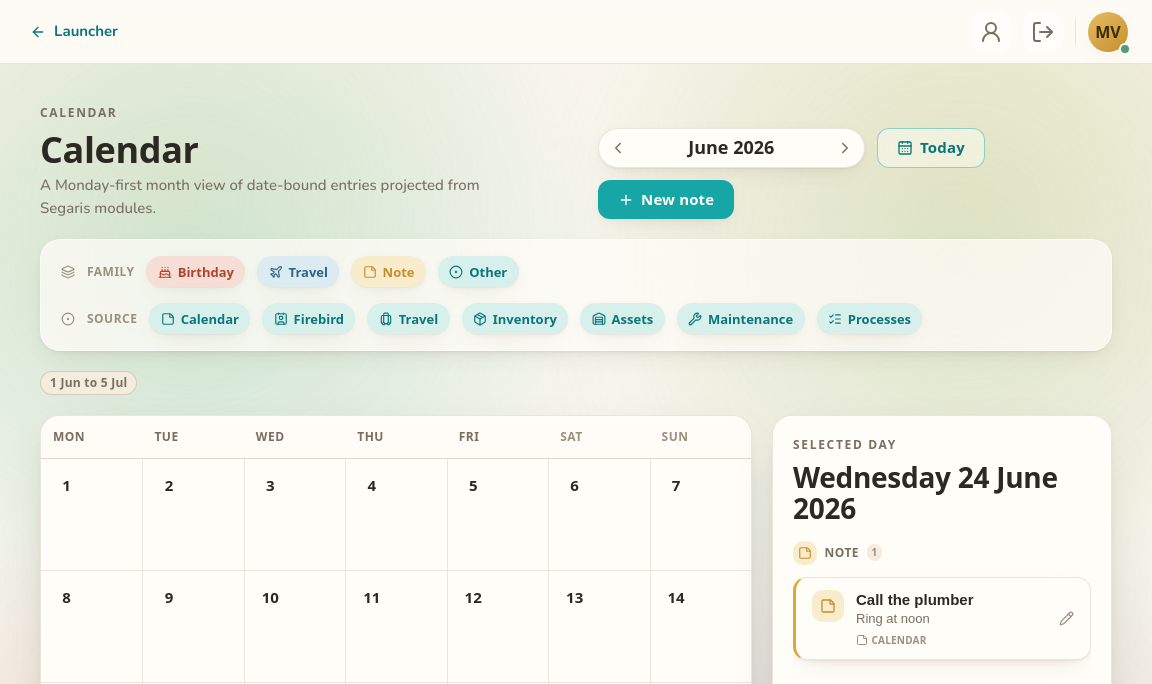
Scenario: Calendar daily-note workflow › opens the create editor with the Private default and the selected day
Expected: the button with aria-label "Edit note Call the plumber" is shown, [793,577,1091,660]
Click the button "New note" at (666, 200), box [598,180,734,219]
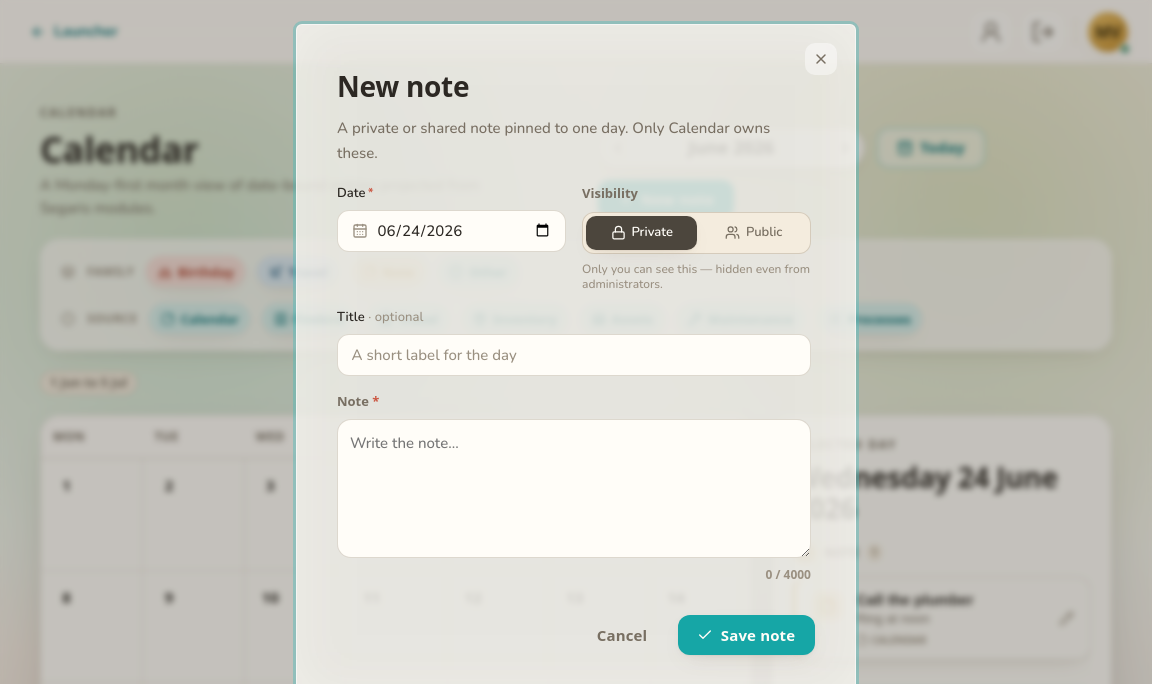
Expected: the date field labelled "Date" holds "2026-06-24", [376,211,552,251]
Expected: the radio button labelled "Private" is checked, [586,216,698,250]
Expected: the radio button labelled "Public" is not checked, [725,223,782,241]
